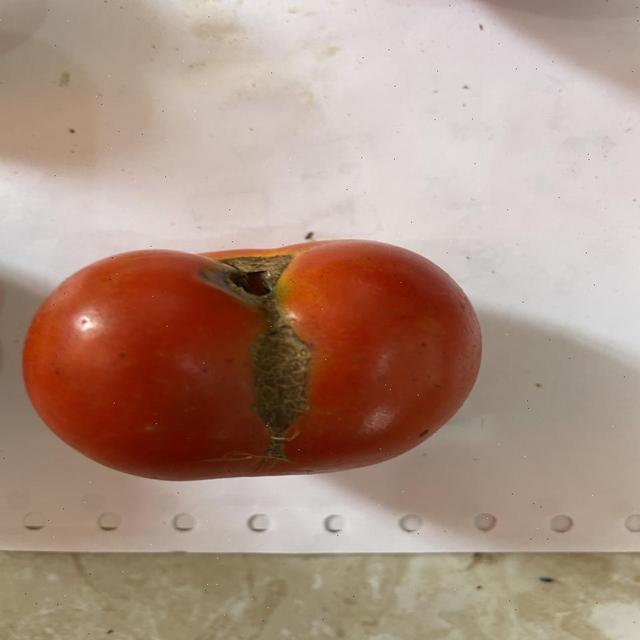Cracking Fruit: (82, 150, 287, 435)
